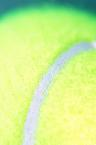tennis ball: (1, 4, 96, 145)
